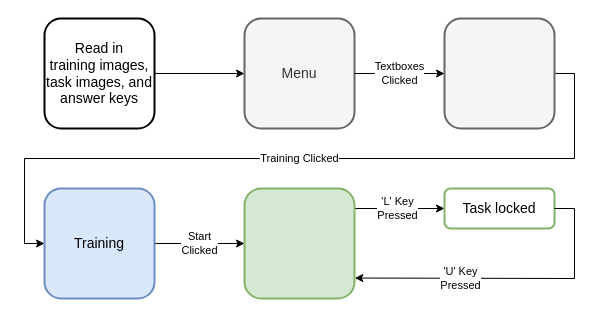
This 600x316 diagram has some shape labels left out. Each missing label, with the box of its shape:
Task: (243, 187, 355, 299)
Type in subject ID and condition: (443, 17, 555, 129)
